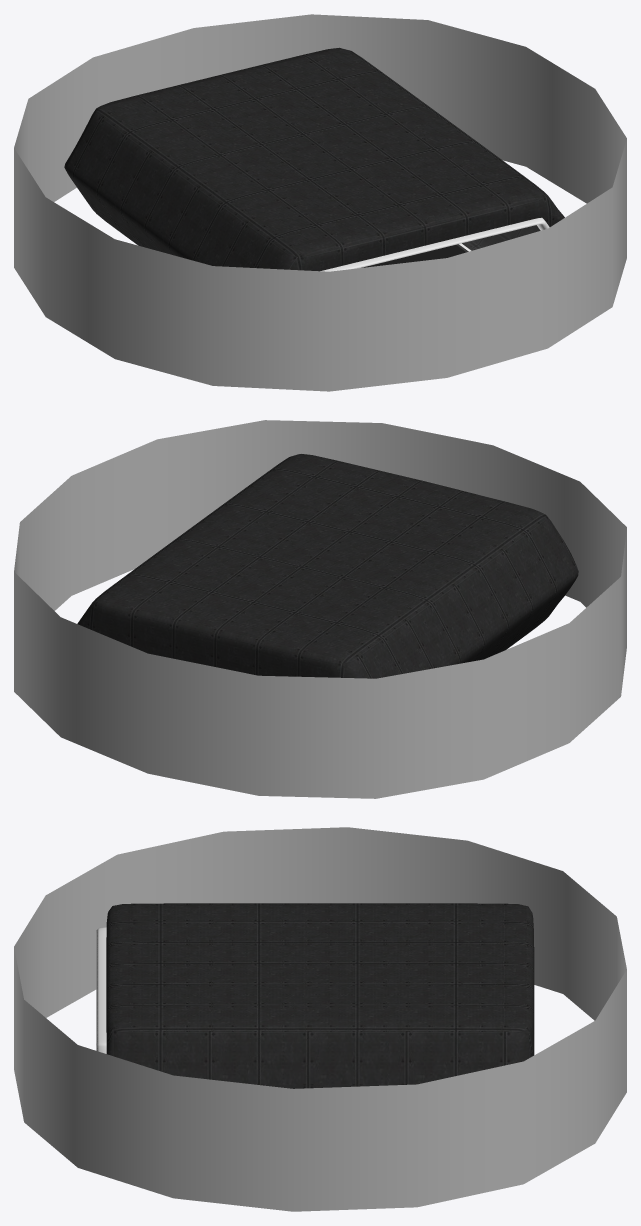
The model's file is Sci-Fi Hanger.fbx.
The picture shows the model from 3 angles, top to bottom: view 1: azimuth 30°, elevation 25°; view 2: azimuth 150°, elevation 25°; view 3: azimuth 270°, elevation 25°; orthographic projection. The views are drawn at different scales.
Visible parts, largest first — view 1: Background, Sci-Fi Hanger; view 2: Background, Sci-Fi Hanger; view 3: Background, Sci-Fi Hanger.
Boxes of the visible parts, x1,y1,x2,y2 form: Background: [14, 14, 626, 391]; Sci-Fi Hanger: [64, 47, 564, 271]; Background: [14, 420, 626, 798]; Sci-Fi Hanger: [77, 454, 578, 678]; Background: [14, 827, 626, 1211]; Sci-Fi Hanger: [96, 903, 534, 1088].
Size of the model in its own units: 5449 by 1193 by 5395.
